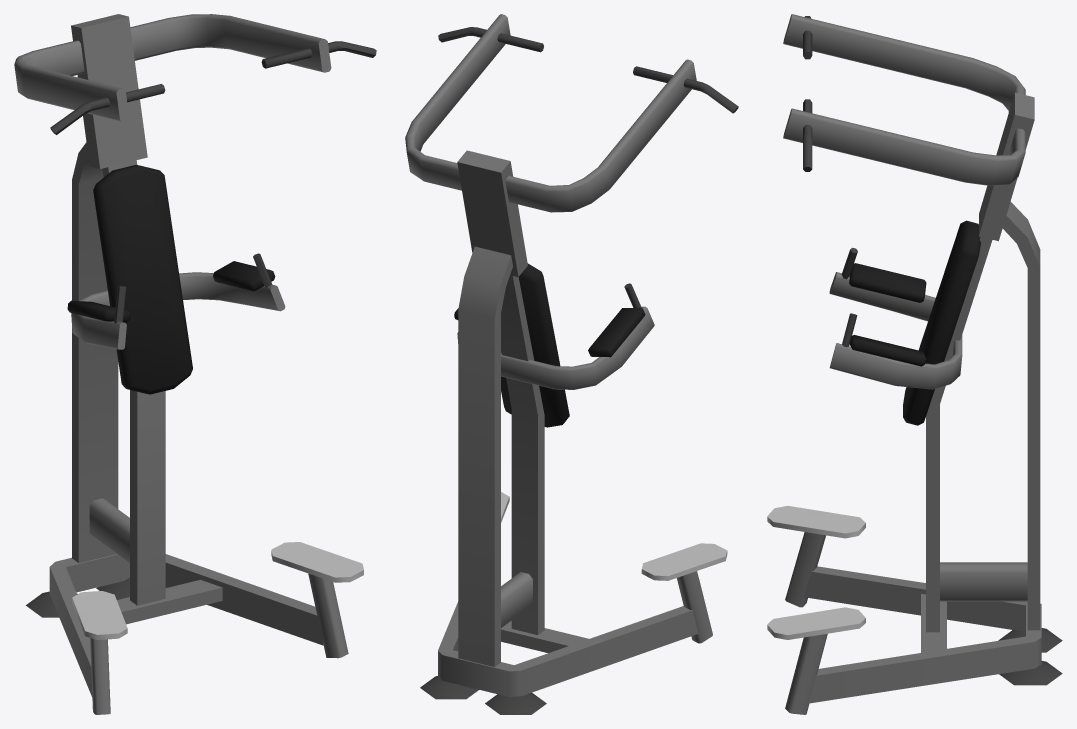
The model's file is training_item_009.glb.
The picture shows the model from 3 angles, left to right: view 1: azimuth 30°, elevation 25°; view 2: azimuth 150°, elevation 25°; view 3: azimuth 270°, elevation 25°; orthographic projection. The views are drawn at different scales.
Visible parts, largest first — view 1: training_item_009; view 2: training_item_009; view 3: training_item_009.
Boxes of the visible parts, left/top/right/bottom form: training_item_009: left=14, top=14, right=376, bottom=714; training_item_009: left=405, top=14, right=738, bottom=714; training_item_009: left=767, top=14, right=1062, bottom=714.
Size of the model in its own units: 1.49 by 2.74 by 1.23.
1 material, 1 textured.
